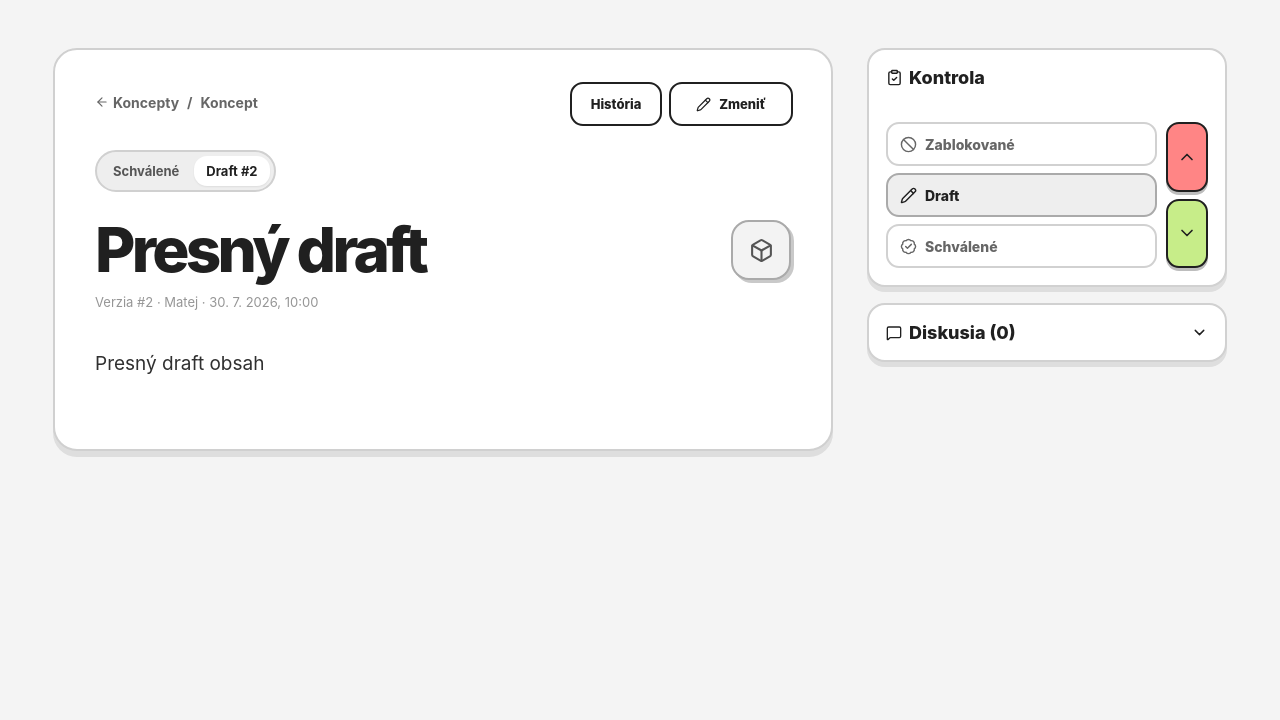
Test: PagePage revision links › opens and closes immutable revision history
This screenshot has width=1280, height=720.
Expected: the heading "Presný draft" is shown, [95,212,425,287]
Click the button "História".
click(616, 104)  # box [570,82,662,126]
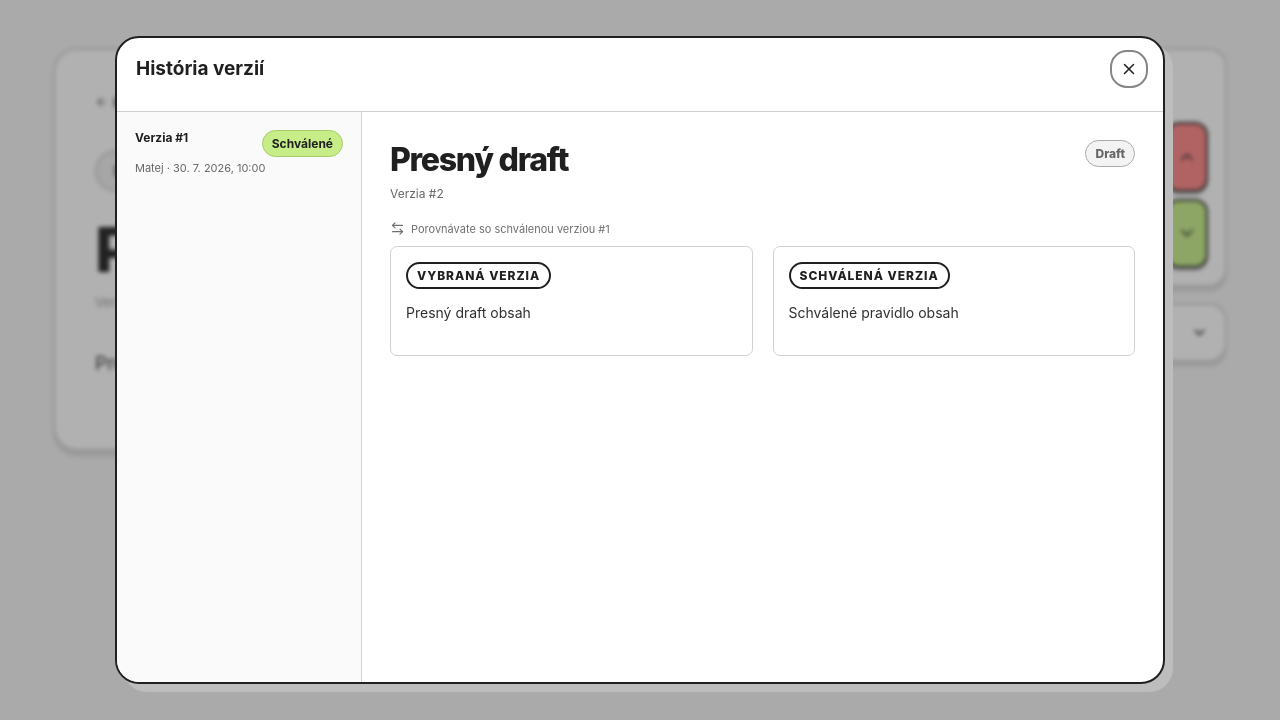
Expected: the heading "História verzií" is shown, [136,57,264,80]
Click the button named "Zavrieť".
click(1129, 69)  # box [1114,54,1144,84]
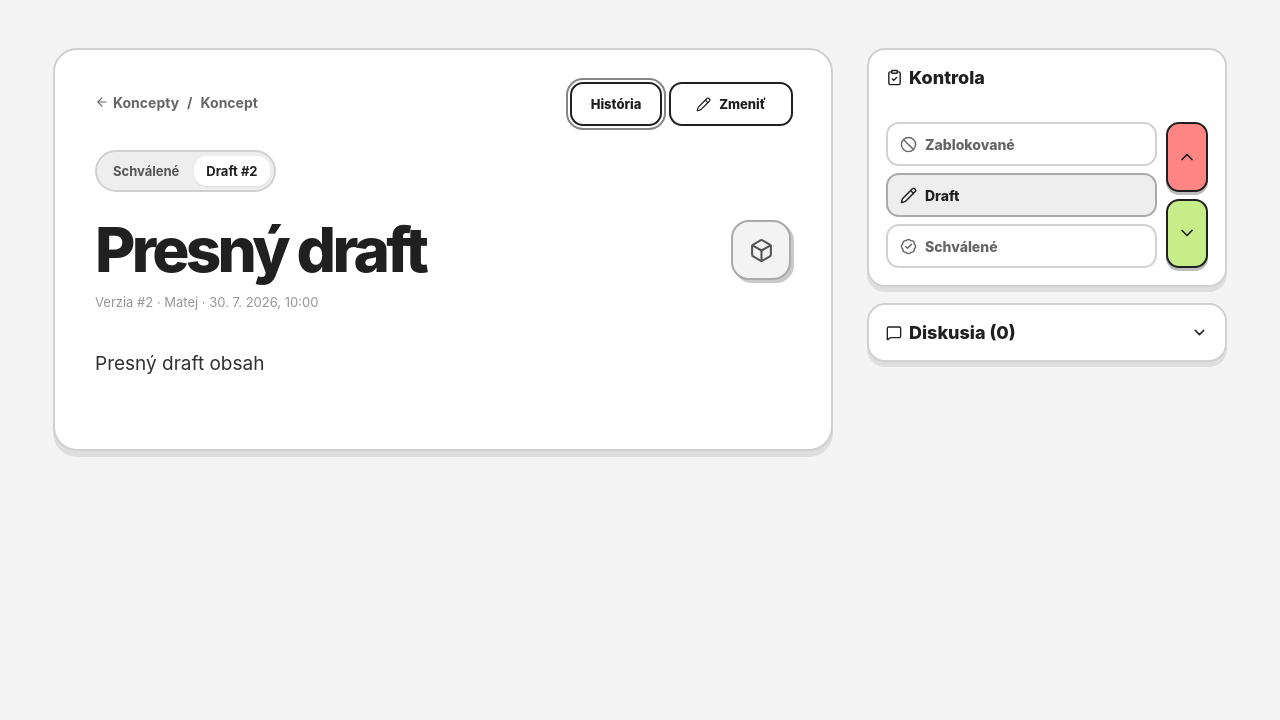
Expected: the heading "História verzií" is gone
